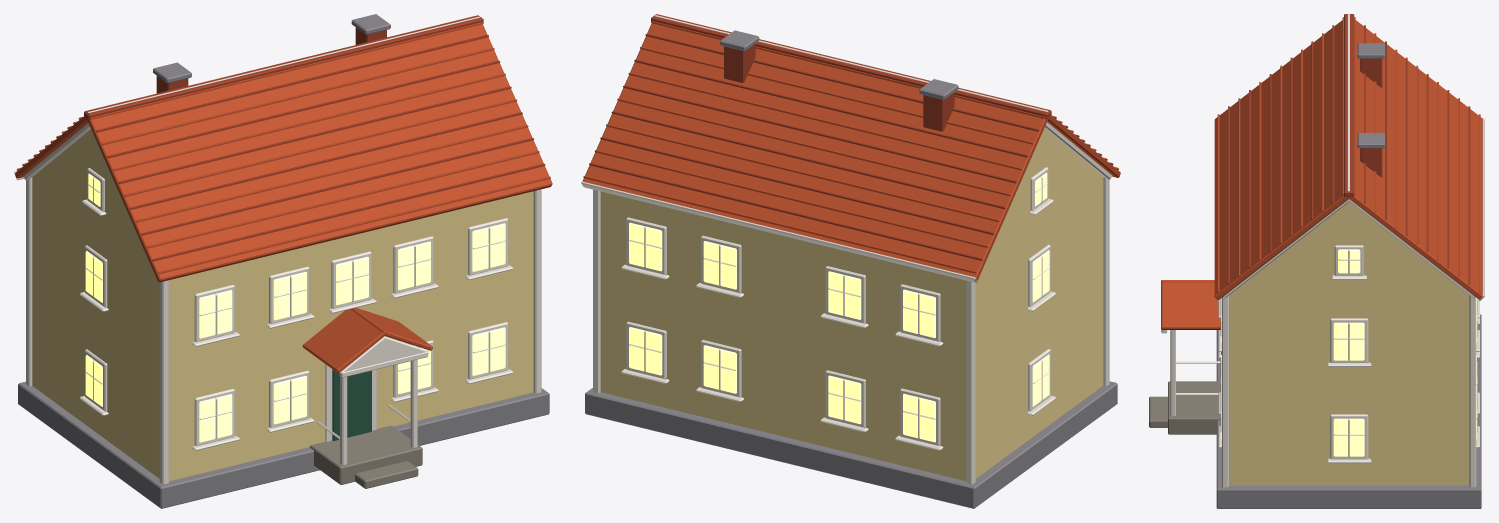
Rendered from storgard.glb.
3 renders of one model, left to right at view 1: azimuth 30°, elevation 25°; view 2: azimuth 150°, elevation 25°; view 3: azimuth 270°, elevation 25°, orthographic. The views are drawn at different scales.
Parts seen in each view (by area): view 1: storgard; view 2: storgard; view 3: storgard.
Boxes of the visible parts, bbox=[...] form: storgard: bbox=[14, 14, 552, 508]; storgard: bbox=[581, 14, 1120, 508]; storgard: bbox=[1149, 14, 1484, 508].
Bounding box in the file's own units: 9.55 × 8.19 × 7.59.
